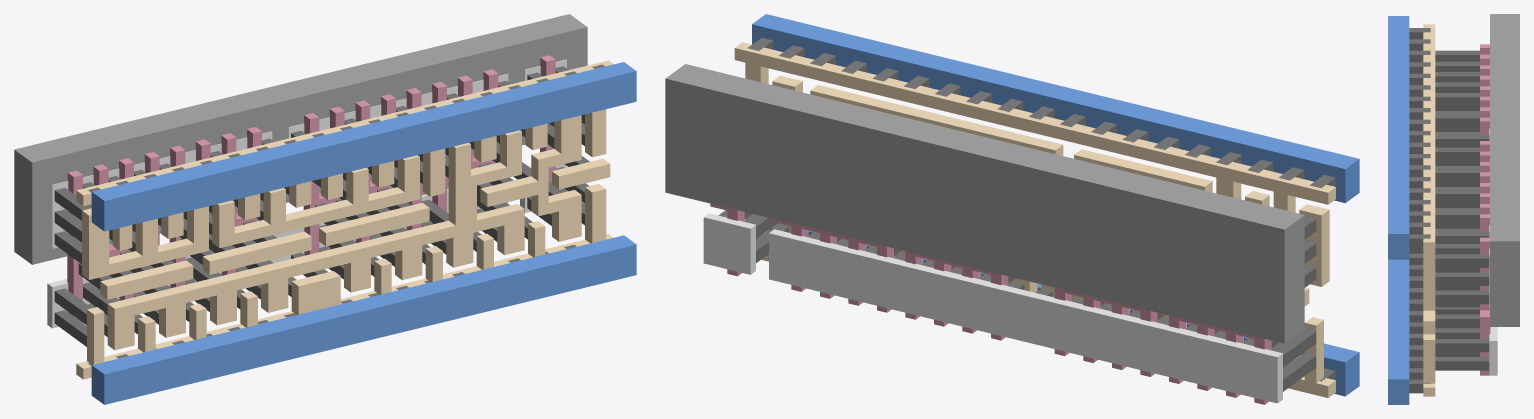
File: sky130_fd_sc_hd__nor4b_4.gds.gltf
3 renders of one model, left to right at view 1: azimuth 30°, elevation 25°; view 2: azimuth 150°, elevation 25°; view 3: azimuth 270°, elevation 25°, orthographic. The views are drawn at different scales.
Parts seen in each view (by area): view 1: sky130_fd_sc_hd__nor4b_4_li1, sky130_fd_sc_hd__nor4b_4_met1, sky130_fd_sc_hd__nor4b_4_nwell, sky130_fd_sc_hd__nor4b_4_licon, sky130_fd_sc_hd__nor4b_4_poly, sky130_fd_sc_hd__nor4b_4_diff, sky130_fd_sc_hd__nor4b_4_mcon; view 2: sky130_fd_sc_hd__nor4b_4_nwell, sky130_fd_sc_hd__nor4b_4_diff, sky130_fd_sc_hd__nor4b_4_li1, sky130_fd_sc_hd__nor4b_4_met1, sky130_fd_sc_hd__nor4b_4_poly, sky130_fd_sc_hd__nor4b_4_licon, sky130_fd_sc_hd__nor4b_4_mcon; view 3: sky130_fd_sc_hd__nor4b_4_licon, sky130_fd_sc_hd__nor4b_4_nwell, sky130_fd_sc_hd__nor4b_4_met1, sky130_fd_sc_hd__nor4b_4_mcon, sky130_fd_sc_hd__nor4b_4_li1, sky130_fd_sc_hd__nor4b_4_poly, sky130_fd_sc_hd__nor4b_4_diff.
Boxes of the visible parts, x1,y1,x2,y2 form: sky130_fd_sc_hd__nor4b_4_li1: (76,60,613,379); sky130_fd_sc_hd__nor4b_4_met1: (91,62,636,404); sky130_fd_sc_hd__nor4b_4_nwell: (14,14,587,264); sky130_fd_sc_hd__nor4b_4_licon: (54,66,589,346); sky130_fd_sc_hd__nor4b_4_poly: (67,55,555,322); sky130_fd_sc_hd__nor4b_4_diff: (47,59,566,328); sky130_fd_sc_hd__nor4b_4_mcon: (88,64,604,365); sky130_fd_sc_hd__nor4b_4_nwell: (665,64,1304,343); sky130_fd_sc_hd__nor4b_4_diff: (703,213,1282,403); sky130_fd_sc_hd__nor4b_4_li1: (734,42,1335,397); sky130_fd_sc_hd__nor4b_4_met1: (752,14,1359,396); sky130_fd_sc_hd__nor4b_4_poly: (710,203,1271,404); sky130_fd_sc_hd__nor4b_4_licon: (718,210,1316,391); sky130_fd_sc_hd__nor4b_4_mcon: (747,37,1335,381); sky130_fd_sc_hd__nor4b_4_licon: (1435,50,1489,370); sky130_fd_sc_hd__nor4b_4_nwell: (1490,14,1519,326); sky130_fd_sc_hd__nor4b_4_met1: (1388,16,1409,404); sky130_fd_sc_hd__nor4b_4_mcon: (1409,28,1430,393); sky130_fd_sc_hd__nor4b_4_li1: (1423,24,1435,396); sky130_fd_sc_hd__nor4b_4_poly: (1480,44,1490,375); sky130_fd_sc_hd__nor4b_4_diff: (1489,128,1497,375).
Size of the model in its own units: 9.12 by 3.2 by 2.24.
